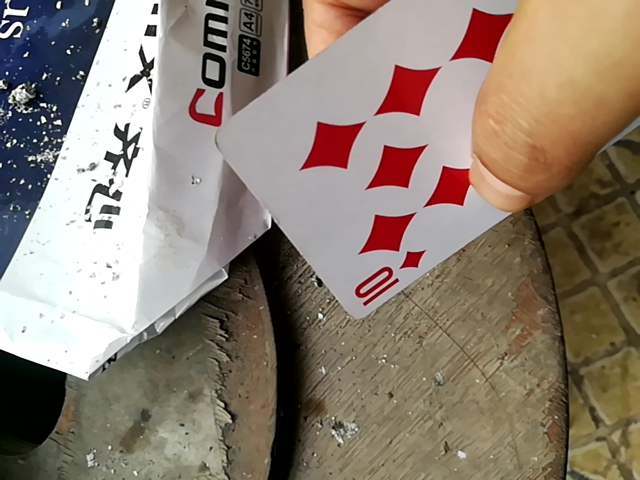fk 10: (187, 3, 520, 326)
